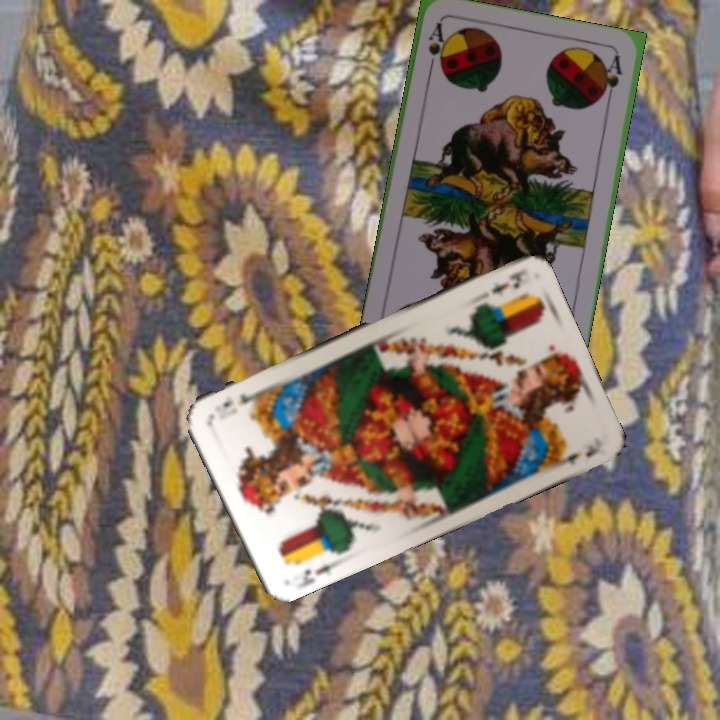EK: (293, 557, 338, 590), (487, 266, 526, 298)
SA: (424, 19, 448, 78)
